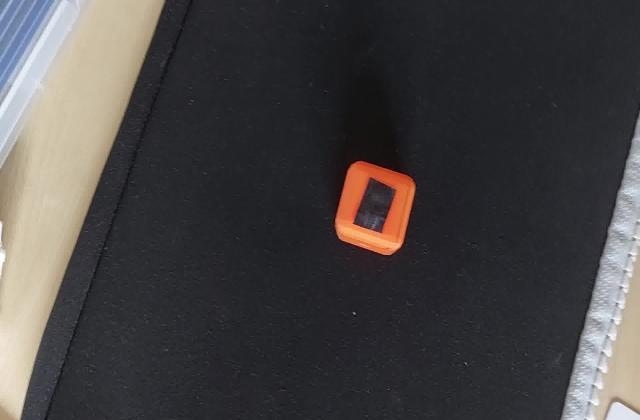black: (349, 176, 404, 227)
sticker: (330, 158, 416, 260)
